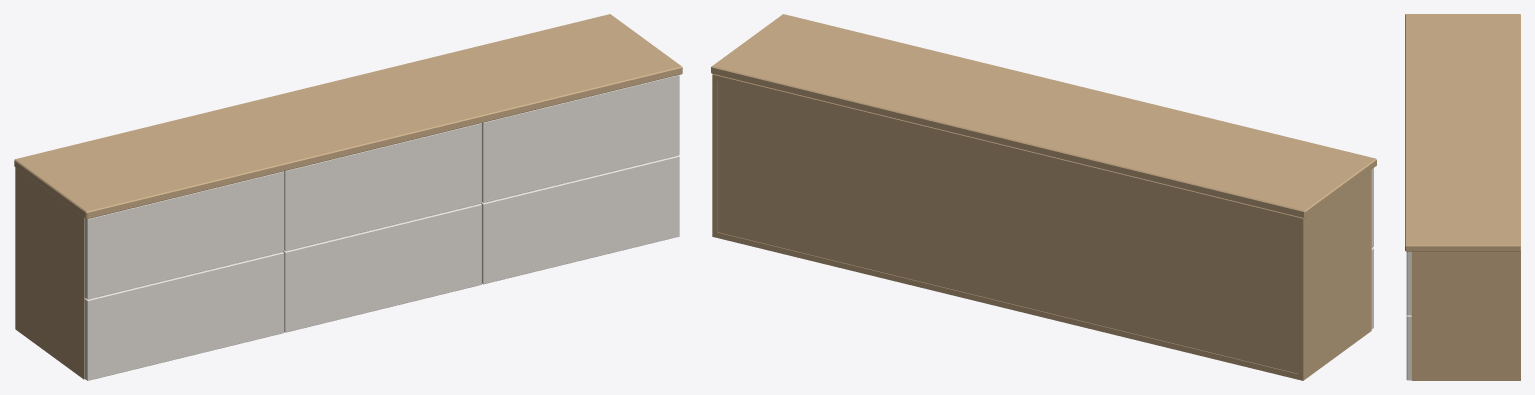
File: 31_komoda_200_wiszaca.glb
3 views of the same model, side by side, from view 1: azimuth 30°, elevation 25°; view 2: azimuth 150°, elevation 25°; view 3: azimuth 270°, elevation 25° (orthographic). The views are drawn at different scales.
Parts seen in each view (by area): view 1: Wierzch, Front_szuflada_2, Front_szuflada_6, Front_szuflada_4, Front_szuflada_1, Front_szuflada_3, Front_szuflada_5, Korpus; view 2: Korpus, Wierzch; view 3: Wierzch, Korpus, Front_szuflada_6, Front_szuflada_5.
Part boxes in pixels (x1=…): Wierzch: x1=14, y1=14, x2=682, y2=219; Front_szuflada_2: x1=84, y1=252, x2=284, y2=380; Front_szuflada_6: x1=481, y1=155, x2=679, y2=284; Front_szuflada_4: x1=283, y1=203, x2=481, y2=332; Front_szuflada_1: x1=84, y1=171, x2=284, y2=299; Front_szuflada_3: x1=284, y1=123, x2=481, y2=250; Front_szuflada_5: x1=482, y1=75, x2=679, y2=202; Korpus: x1=15, y1=167, x2=85, y2=379; Korpus: x1=712, y1=74, x2=1371, y2=380; Wierzch: x1=711, y1=14, x2=1376, y2=218; Wierzch: x1=1405, y1=14, x2=1520, y2=251; Korpus: x1=1411, y1=251, x2=1520, y2=380; Front_szuflada_6: x1=1406, y1=315, x2=1411, y2=380; Front_szuflada_5: x1=1406, y1=251, x2=1411, y2=315.
Size of the model in its own units: 2.01 by 0.55 by 0.424.
